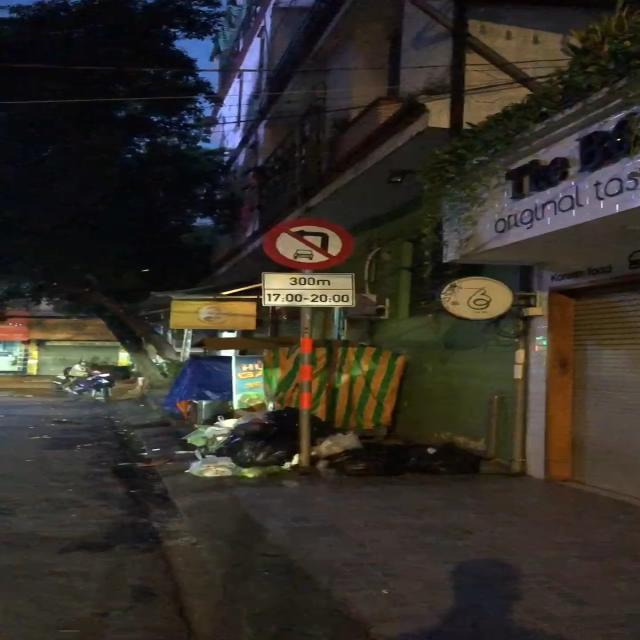Bien bao cam xe o to re trai: (257, 218, 357, 272)
